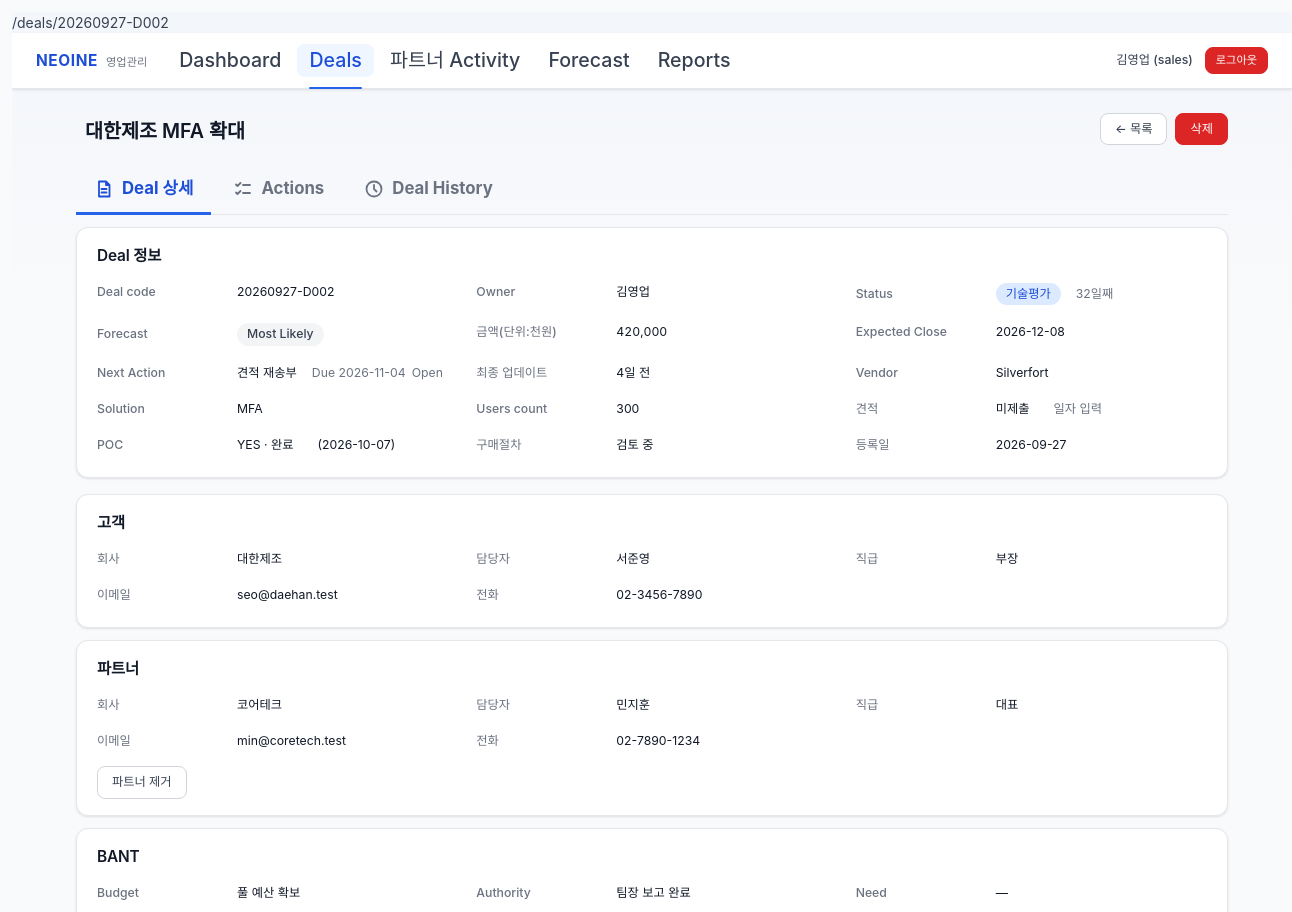
Test: 금액·Expected Close 인라인 편집 › cancels the amount edit with Escape without saving
The width and height of the screenshot is (1292, 912).
Expected: the heading "대한제조 MFA 확대" is shown, [76,113,254,150]
Click the button named "금액(단위:천원) 수정".
click(642, 332)  # box [607,317,676,348]
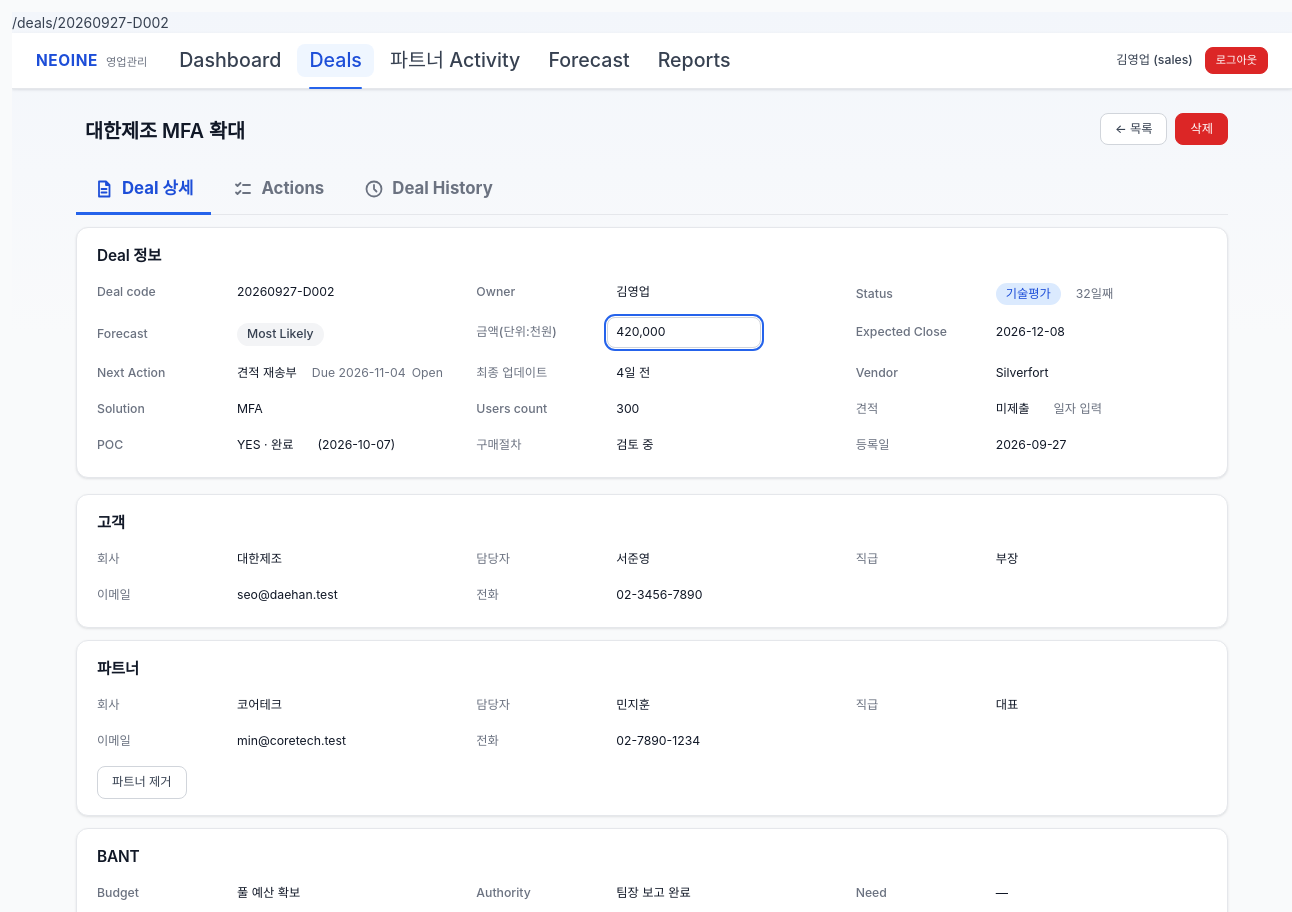
Type "9" into the field named "금액(단위:천원)".
click(684, 332); type("9")  # box [607,317,761,348]
Then press Escape
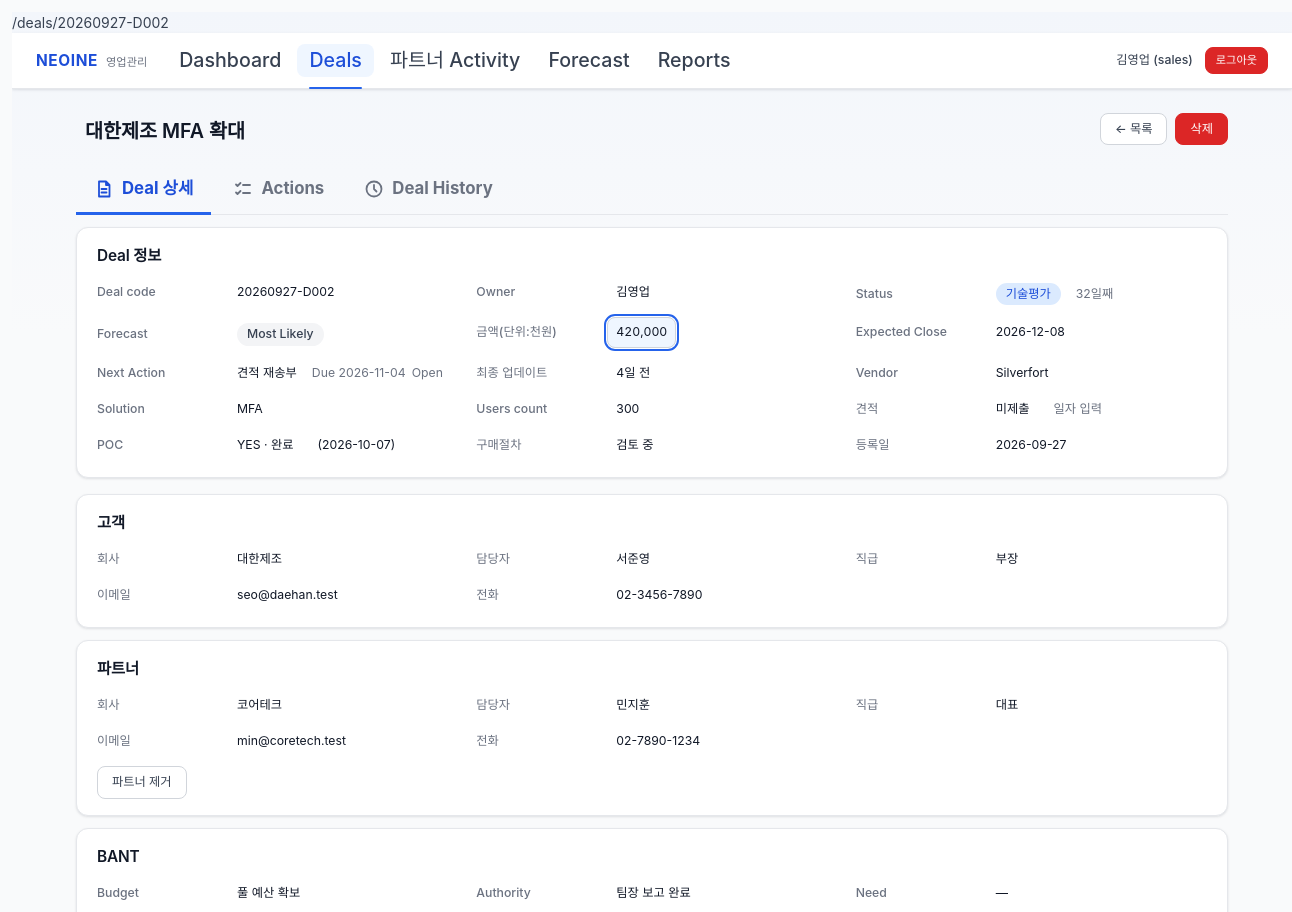
Expected: the text "420,000" is shown, [616,324,667,339]
